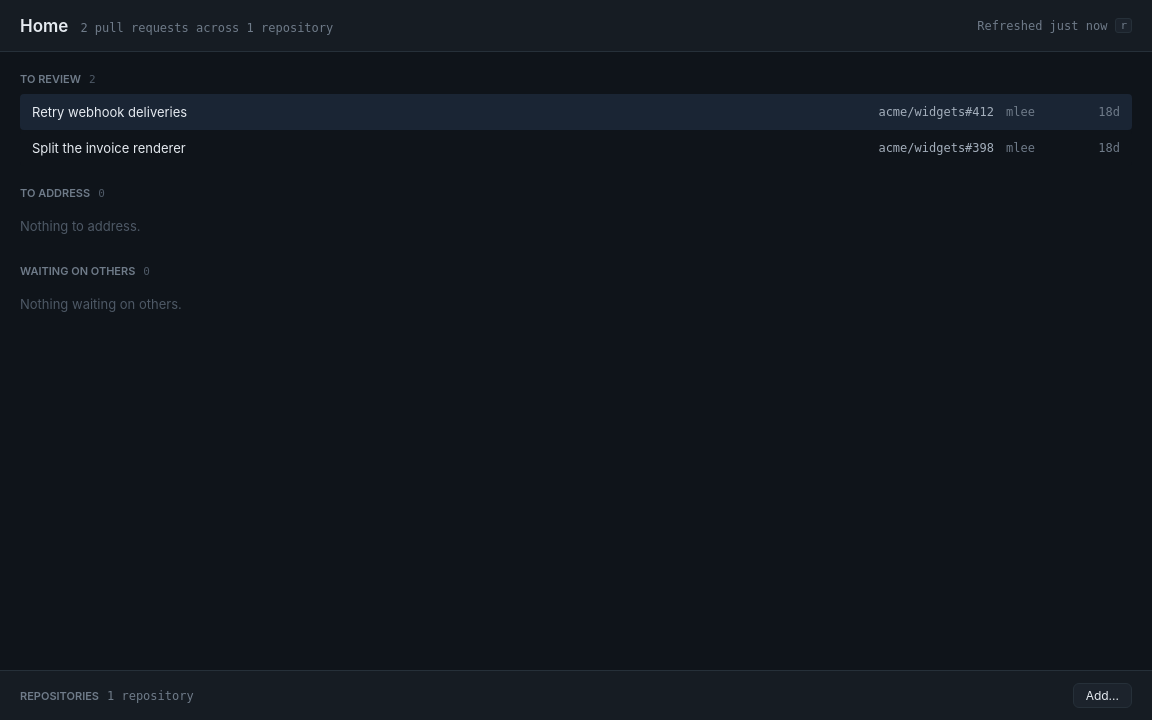
Test: coming back › returns to Home on the back chevron and refreshes it
Check: the text "Retry webhook deliveries" is shown, box [32, 104, 187, 120]
Press Enter
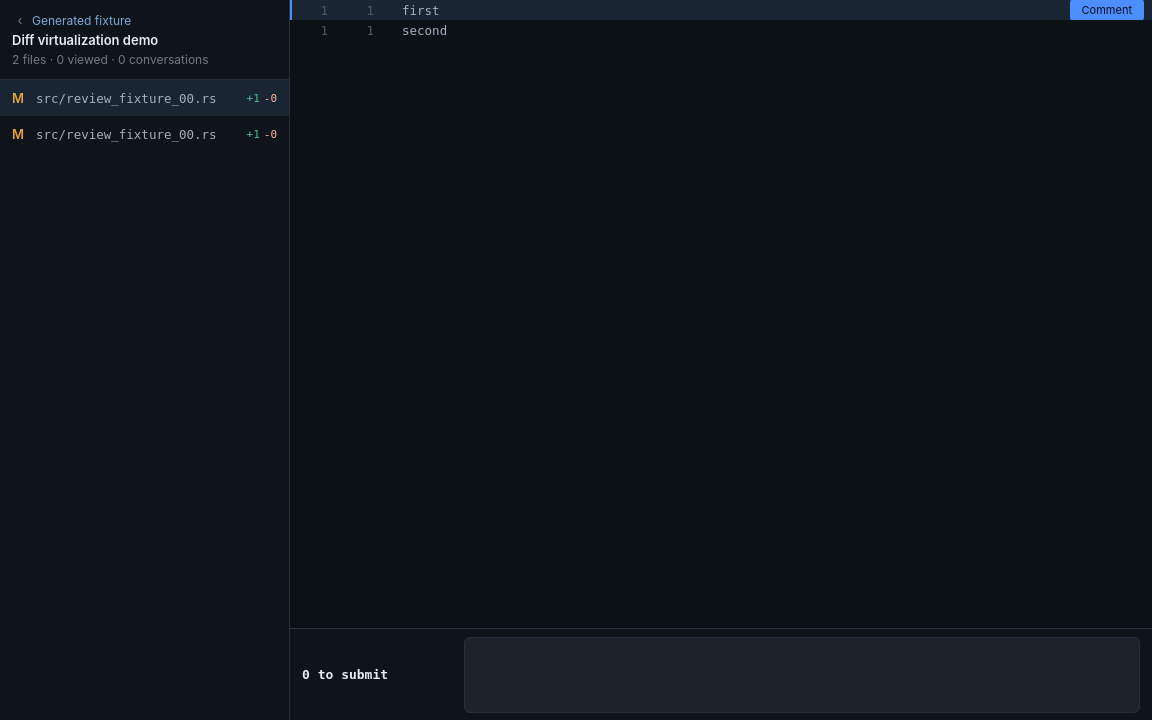
Check: the text "first" is shown, box [402, 2, 440, 18]
Click the button named "Back to Home" at (20, 20), box [12, 12, 28, 28]
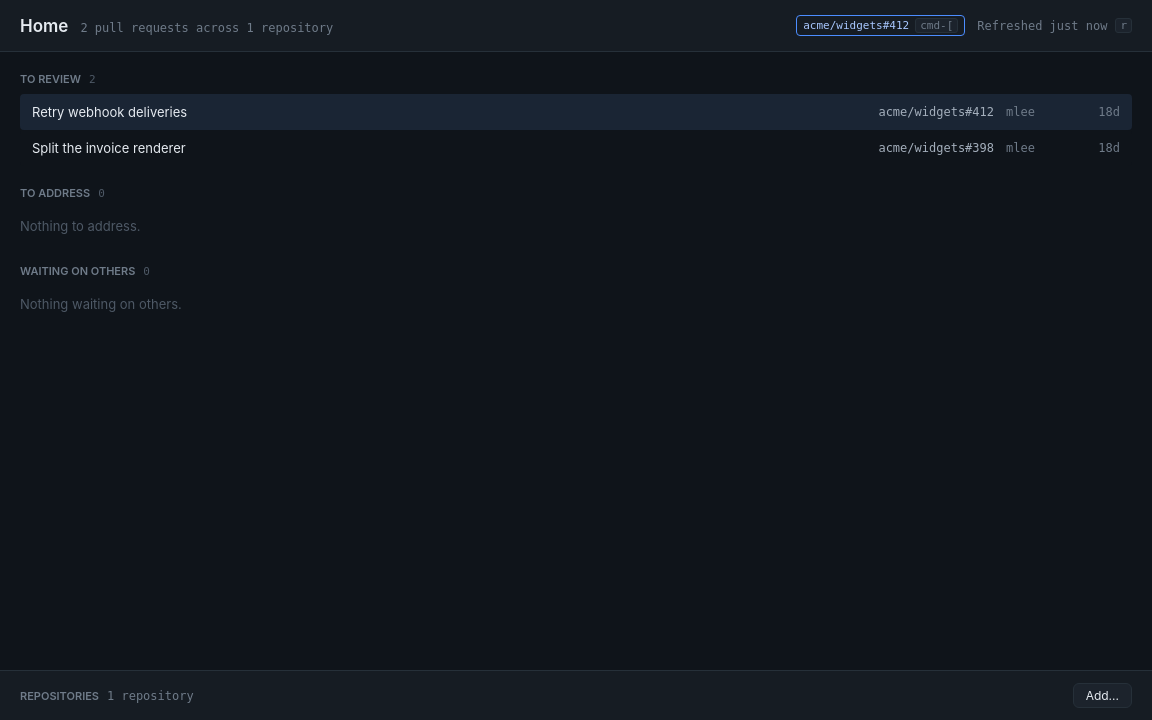
Check: the text "Retry webhook deliveries" is shown, box [32, 104, 187, 120]
